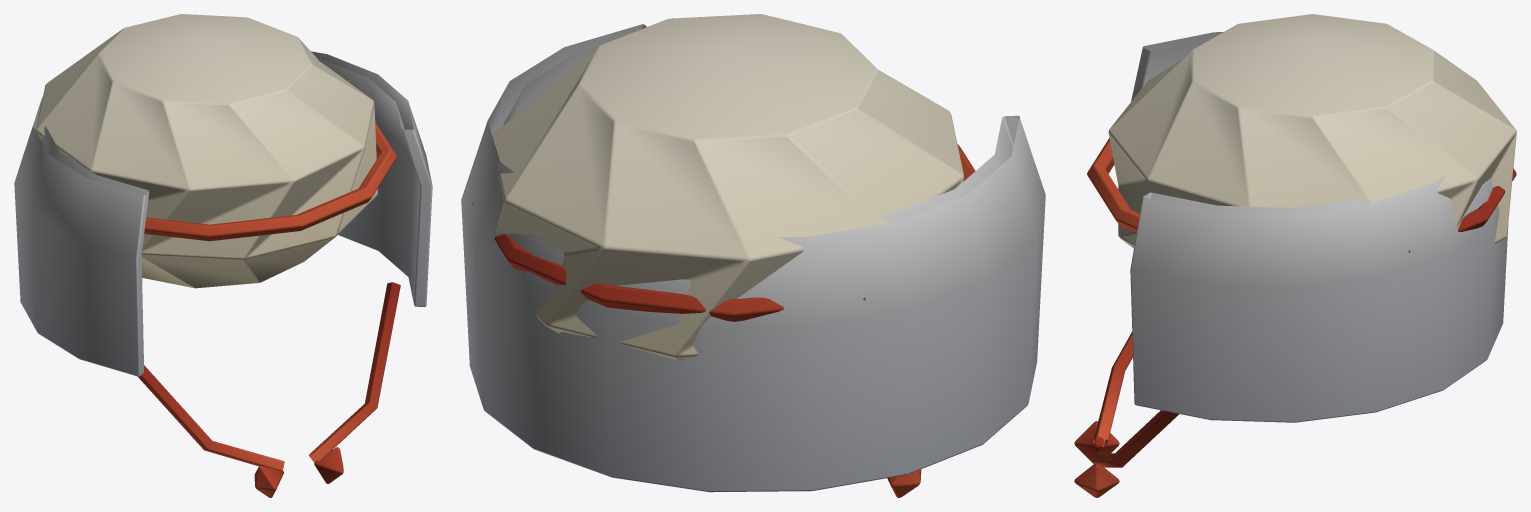
File: lg_hearthkeeper_bonnet.glb
3 renders of one model, left to right at view 1: azimuth 30°, elevation 25°; view 2: azimuth 150°, elevation 25°; view 3: azimuth 270°, elevation 25°, orthographic. The views are drawn at different scales.
Visible parts, largest first — view 1: lg_hearthkeeper_bonnet; view 2: lg_hearthkeeper_bonnet; view 3: lg_hearthkeeper_bonnet.
Part boxes in pixels (x1,y1,x2,y2): lg_hearthkeeper_bonnet: (14,14,432,497); lg_hearthkeeper_bonnet: (461,14,1045,497); lg_hearthkeeper_bonnet: (1074,14,1516,497).
Size of the model in its own units: 2.66 by 2.71 by 2.46.
